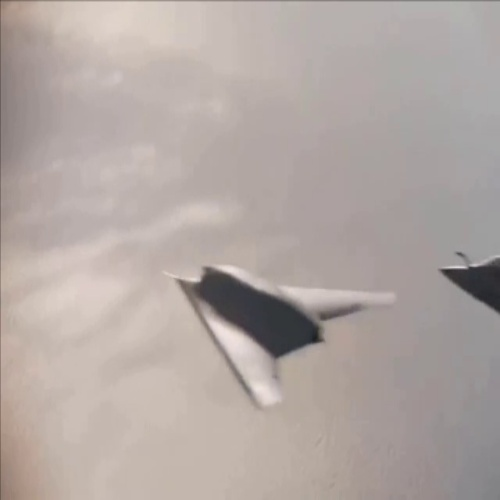uav923: (154, 256, 400, 416)
